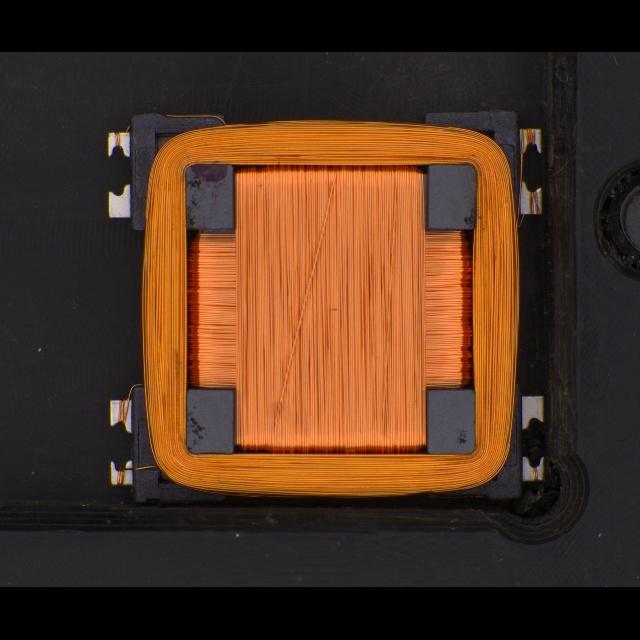Winding_Z: (121, 112, 526, 502)
